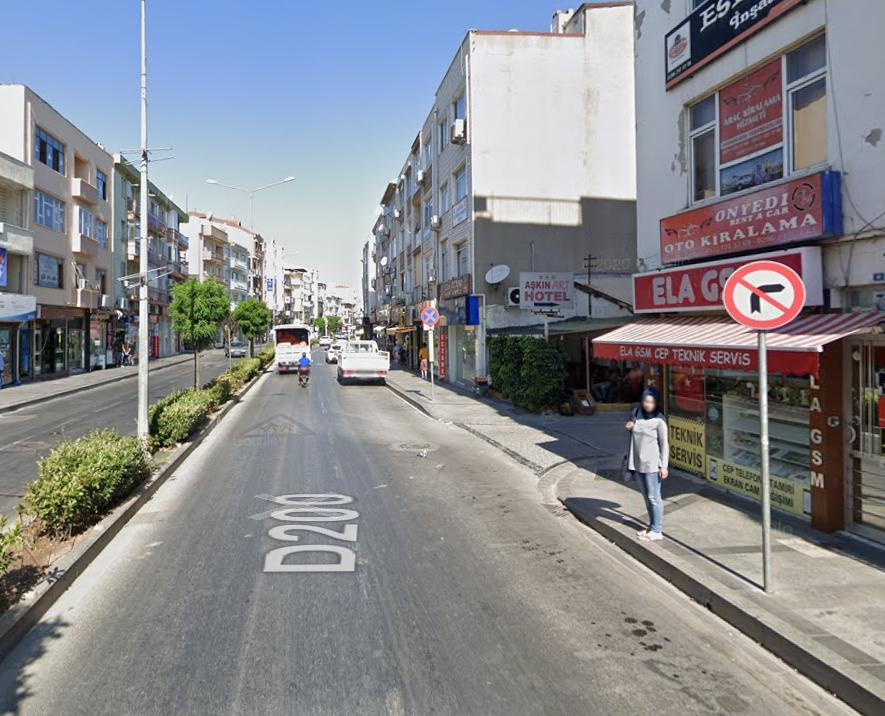rightturnsareforbidden: (723, 261, 806, 332)
